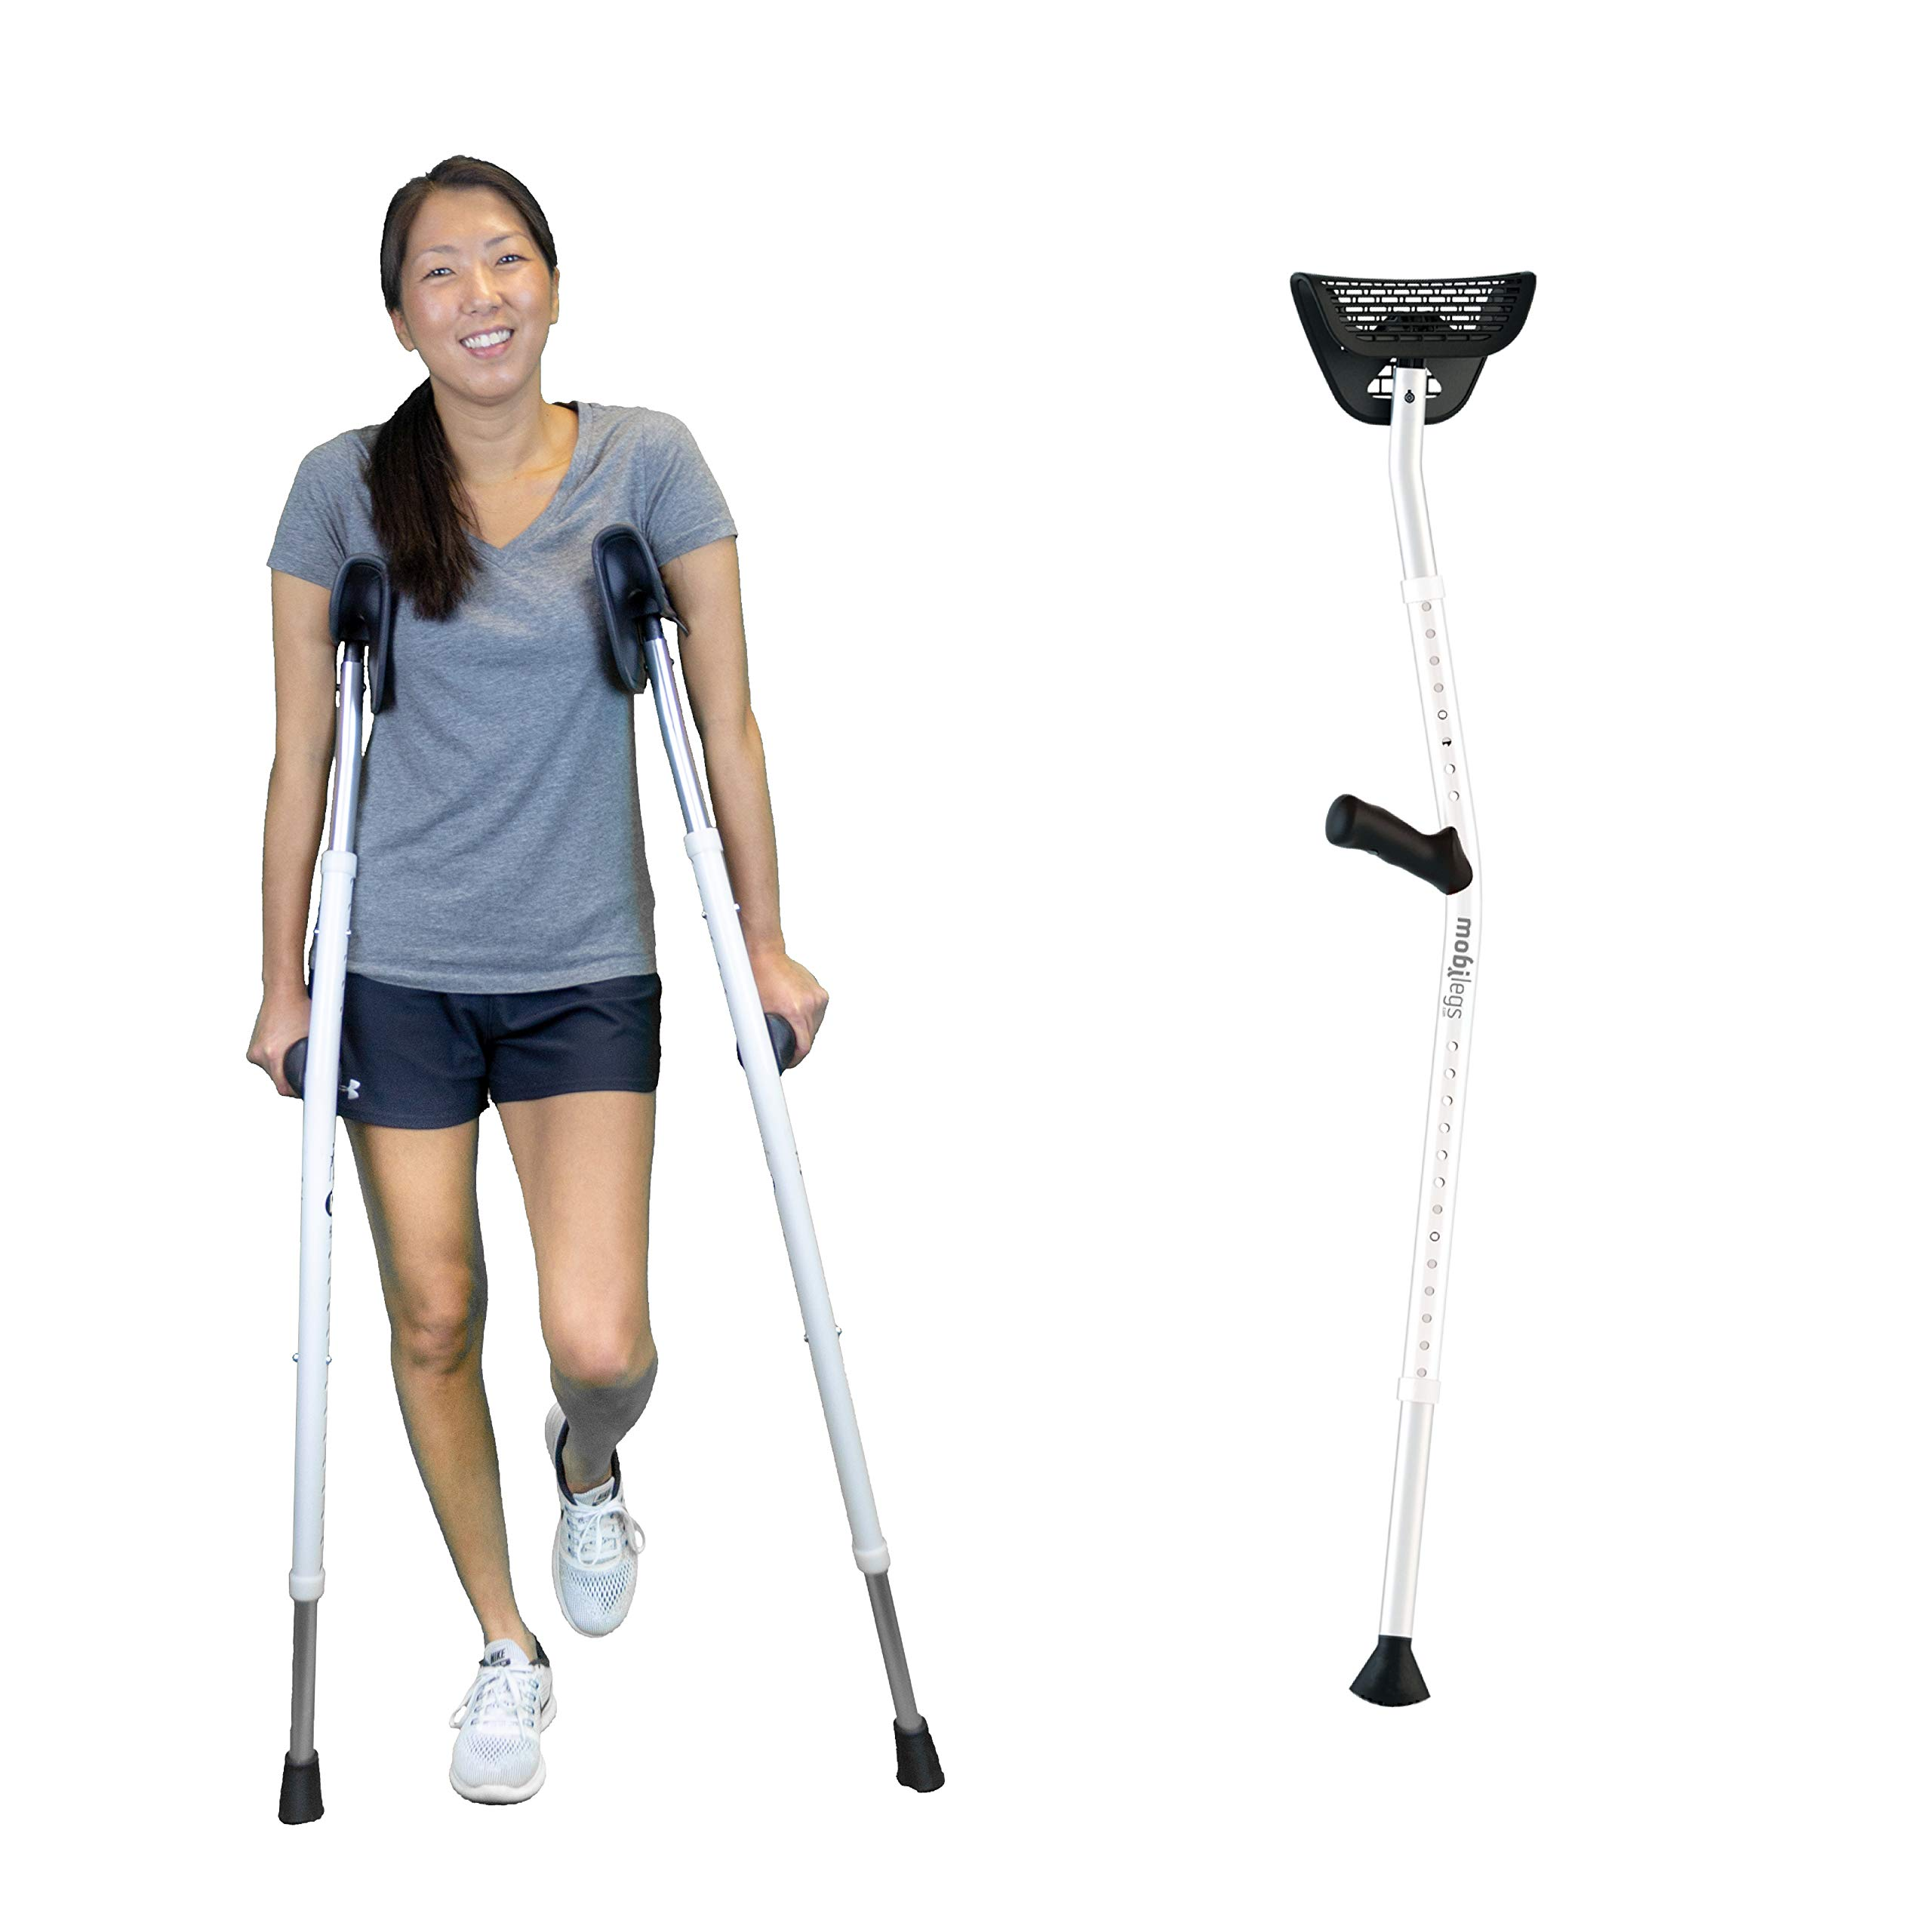crutches: (237, 149, 952, 1829)
